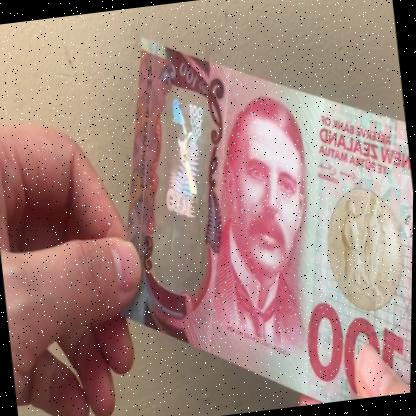100F: (135, 89, 226, 300)
